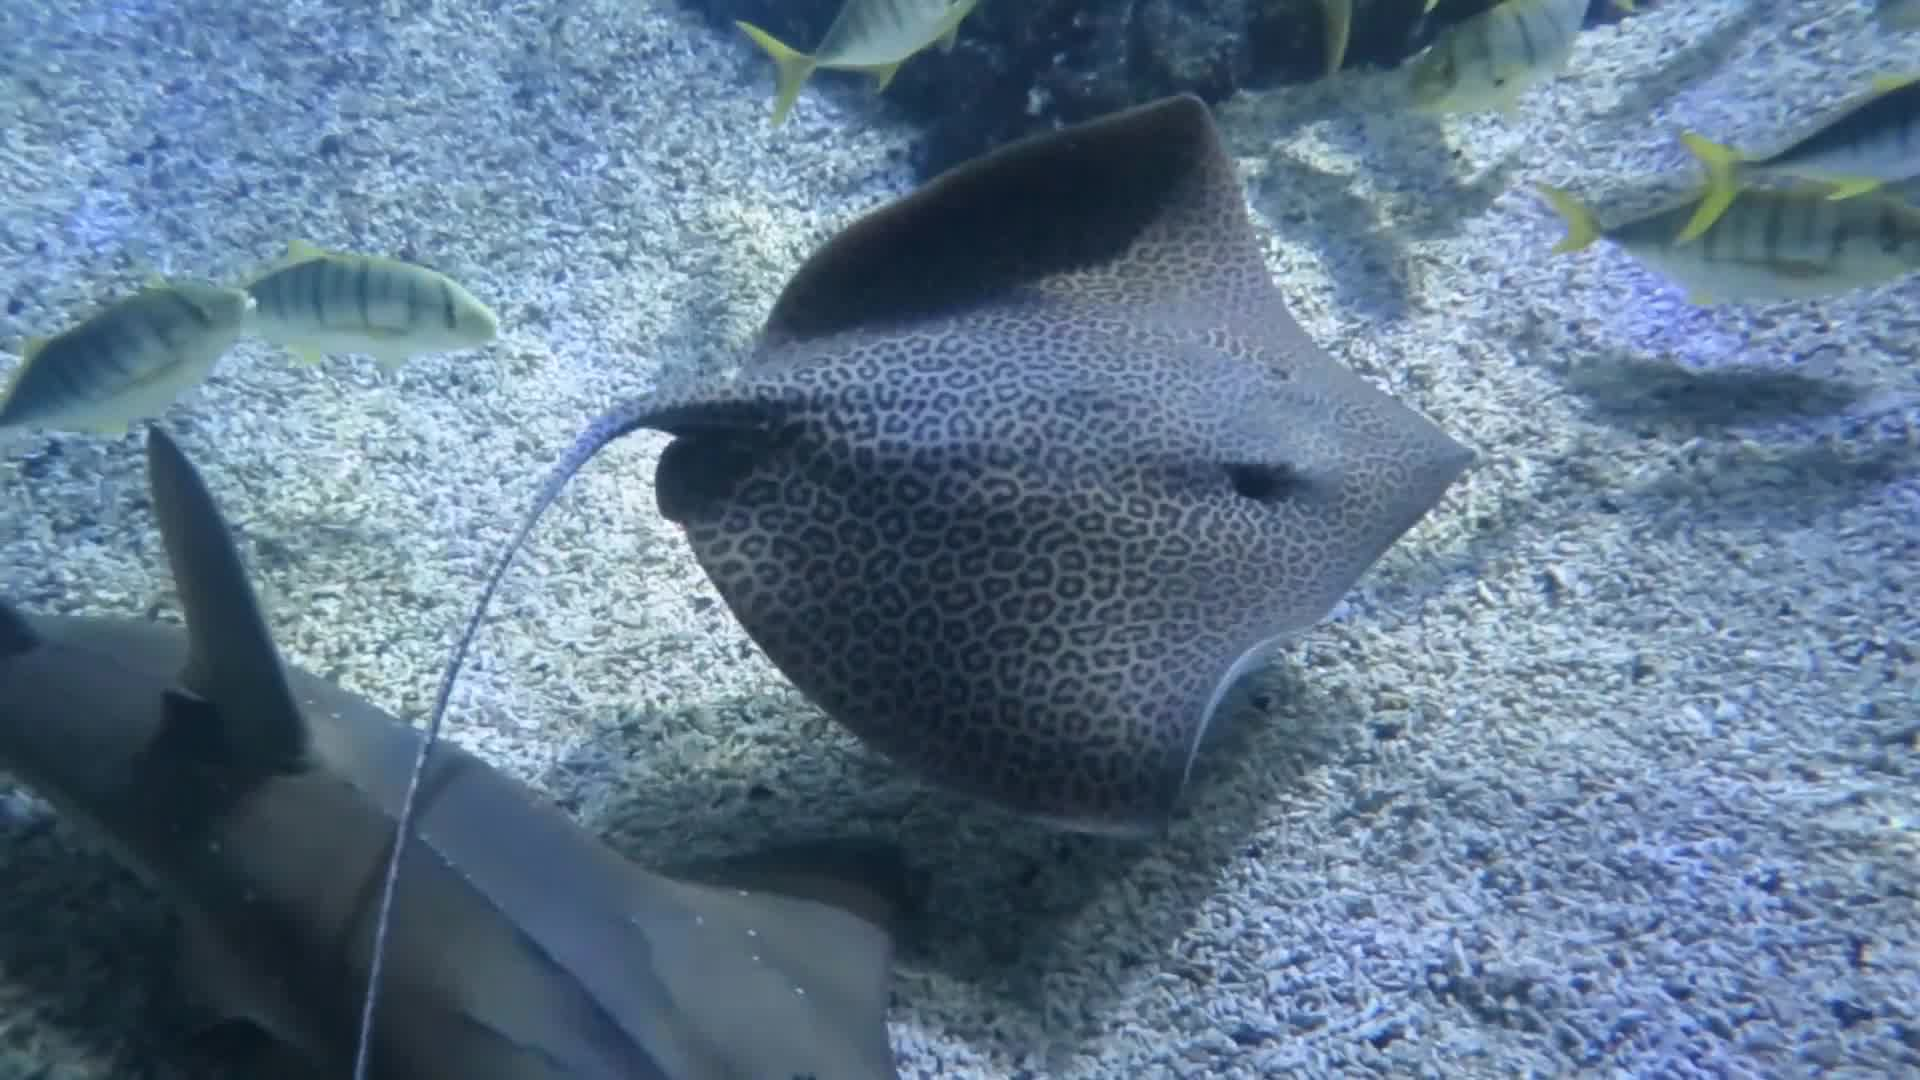Himantura uarnak: (599, 88, 1505, 865)
